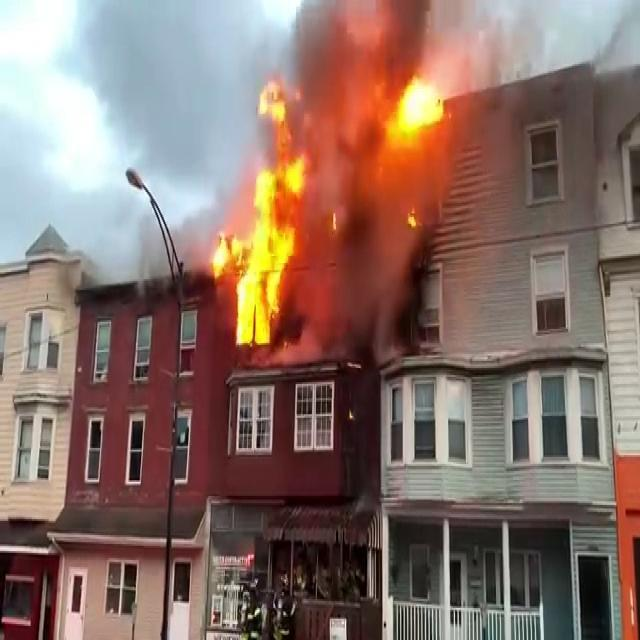Fire: (208, 89, 314, 352), (384, 64, 452, 150)
Smoke: (296, 0, 474, 354), (296, 1, 404, 358)
